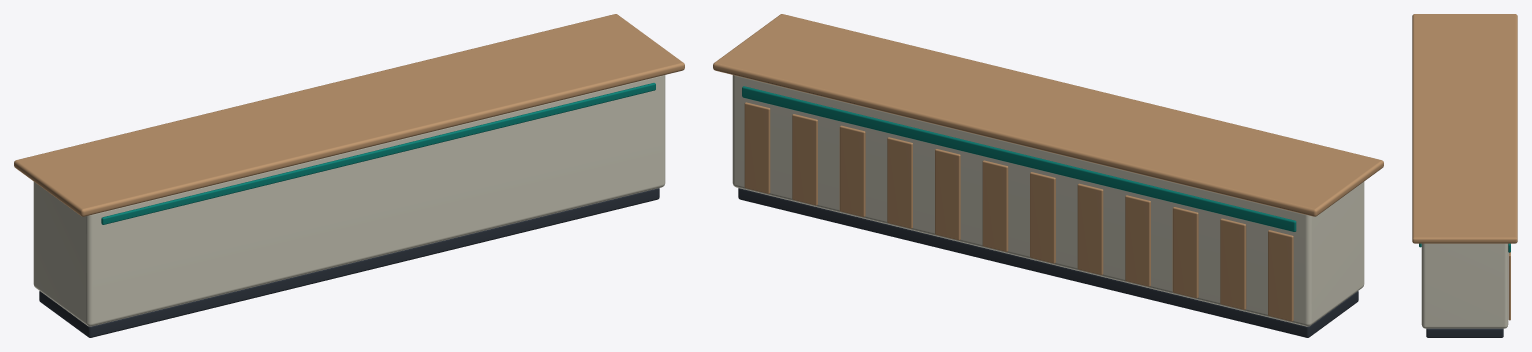
The model's file is prop_balcao_v001.glb.
The picture shows the model from 3 angles, left to right: view 1: azimuth 30°, elevation 25°; view 2: azimuth 150°, elevation 25°; view 3: azimuth 270°, elevation 25°; orthographic projection. The views are drawn at different scales.
Parts seen in each view (by area): view 1: FarmaPalette, WarmWood; view 2: WarmWood, FarmaPalette; view 3: WarmWood, FarmaPalette.
Boxes of the visible parts, <box> form: FarmaPalette: <box>33,75,665,337</box>; WarmWood: <box>14,14,684,216</box>; WarmWood: <box>713,14,1383,321</box>; FarmaPalette: <box>732,75,1364,337</box>; WarmWood: <box>1412,14,1517,320</box>; FarmaPalette: <box>1419,243,1510,337</box>.
Size of the model in its own units: 4.8 by 1.06 by 0.9498.
